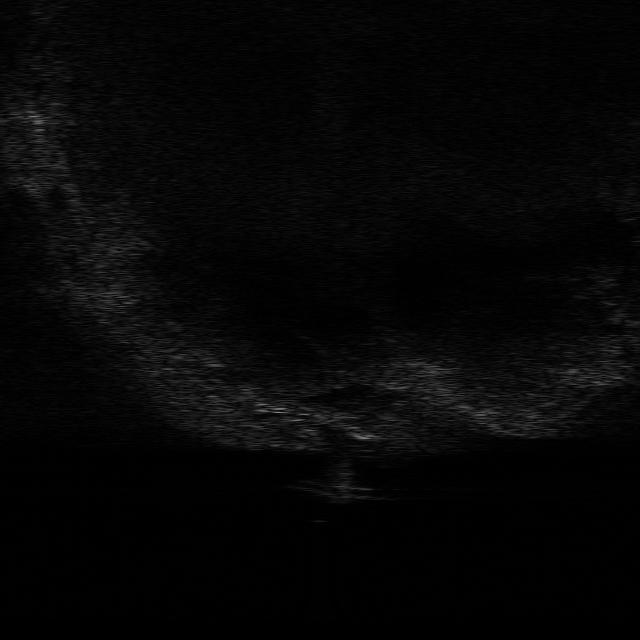plane: (296, 479, 392, 504)
